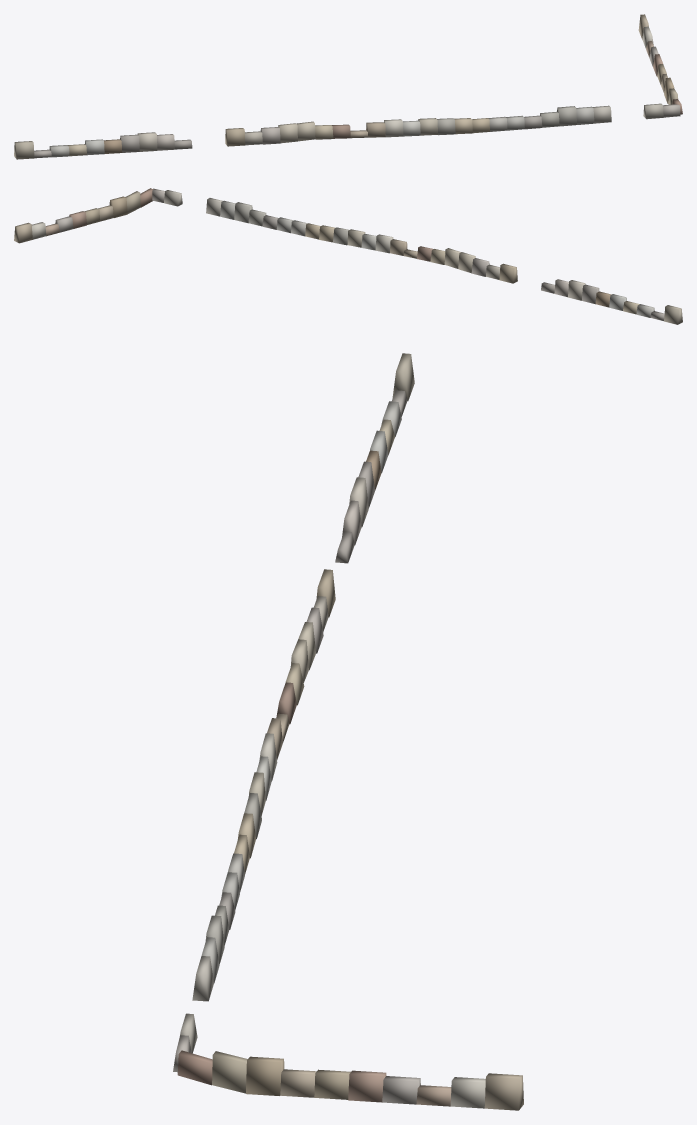
The model's file is farm_11_7_collision.glb.
3 renders of one model, top to bottom at view 1: azimuth 30°, elevation 25°; view 2: azimuth 150°, elevation 25°; view 3: azimuth 270°, elevation 25°, orthographic. The views are drawn at different scales.
Parts seen in each view (by area): view 1: geometry_0; view 2: geometry_0; view 3: geometry_0.
Part boxes in pixels (left/top/right/bottom): geometry_0: left=14, top=14, right=682, bottom=159; geometry_0: left=14, top=188, right=682, bottom=324; geometry_0: left=173, top=353, right=523, bottom=1110.
Bounding box in the file's own units: 64.33 × 7.54 × 15.31.
